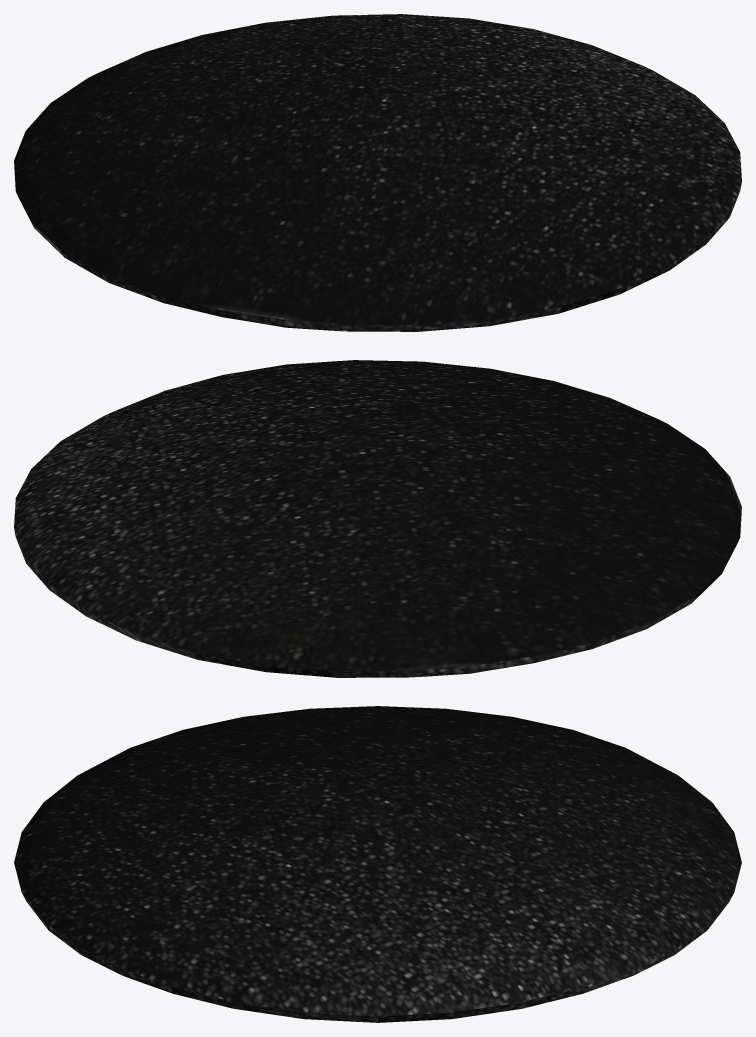
File: CharcoPetroleo.fbx
The picture shows the model from 3 angles, top to bottom: view 1: azimuth 30°, elevation 25°; view 2: azimuth 150°, elevation 25°; view 3: azimuth 270°, elevation 25°; orthographic projection.
Visible parts, largest first — view 1: CharcoPetroleo; view 2: CharcoPetroleo; view 3: CharcoPetroleo.
Boxes of the visible parts, x1,y1,x2,y2 form: CharcoPetroleo: (14, 14, 741, 331); CharcoPetroleo: (14, 360, 741, 677); CharcoPetroleo: (14, 706, 741, 1022).
Size of the model in its own units: 1203 by 174 by 1203.
